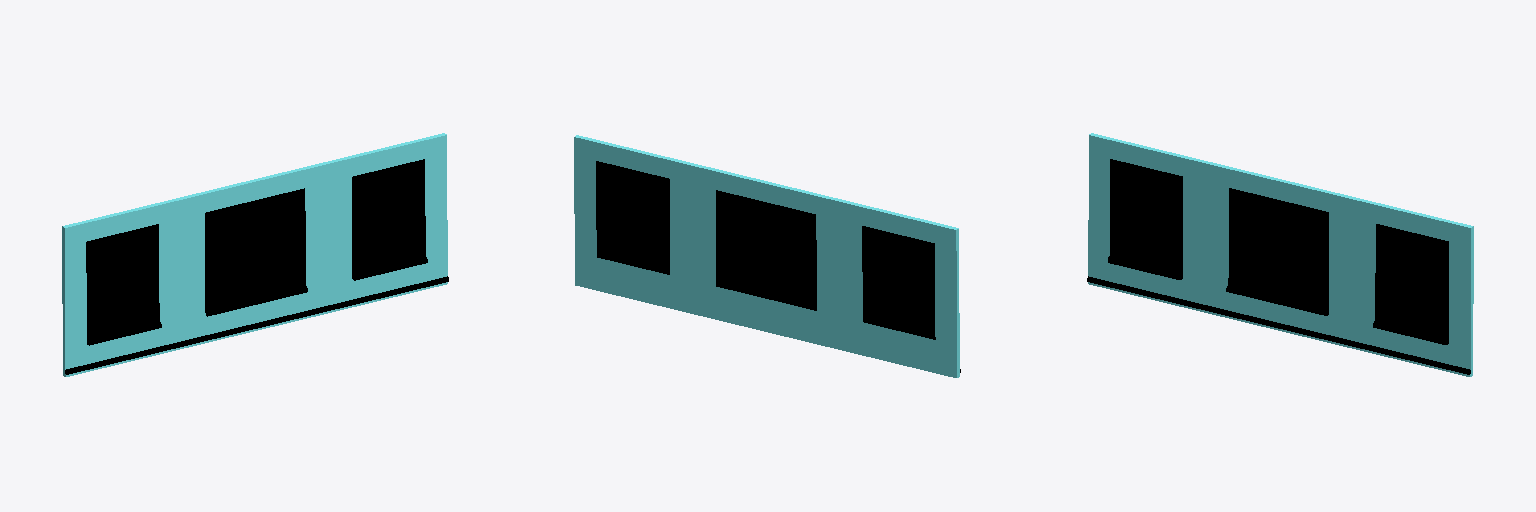
File: wall_one_RA.obj
3 renders of one model, left to right at view 1: azimuth 30°, elevation 25°; view 2: azimuth 150°, elevation 25°; view 3: azimuth 330°, elevation 25°, orthographic.
Visible parts, largest first — view 1: polySurface3; view 2: polySurface3; view 3: polySurface3.
Boxes of the visible parts, <box> form: polySurface3: <box>62,133,448,376</box>; polySurface3: <box>574,135,960,377</box>; polySurface3: <box>1087,133,1473,376</box>.
Bounding box in the file's own units: 7.17 × 2.67 × 0.1755.